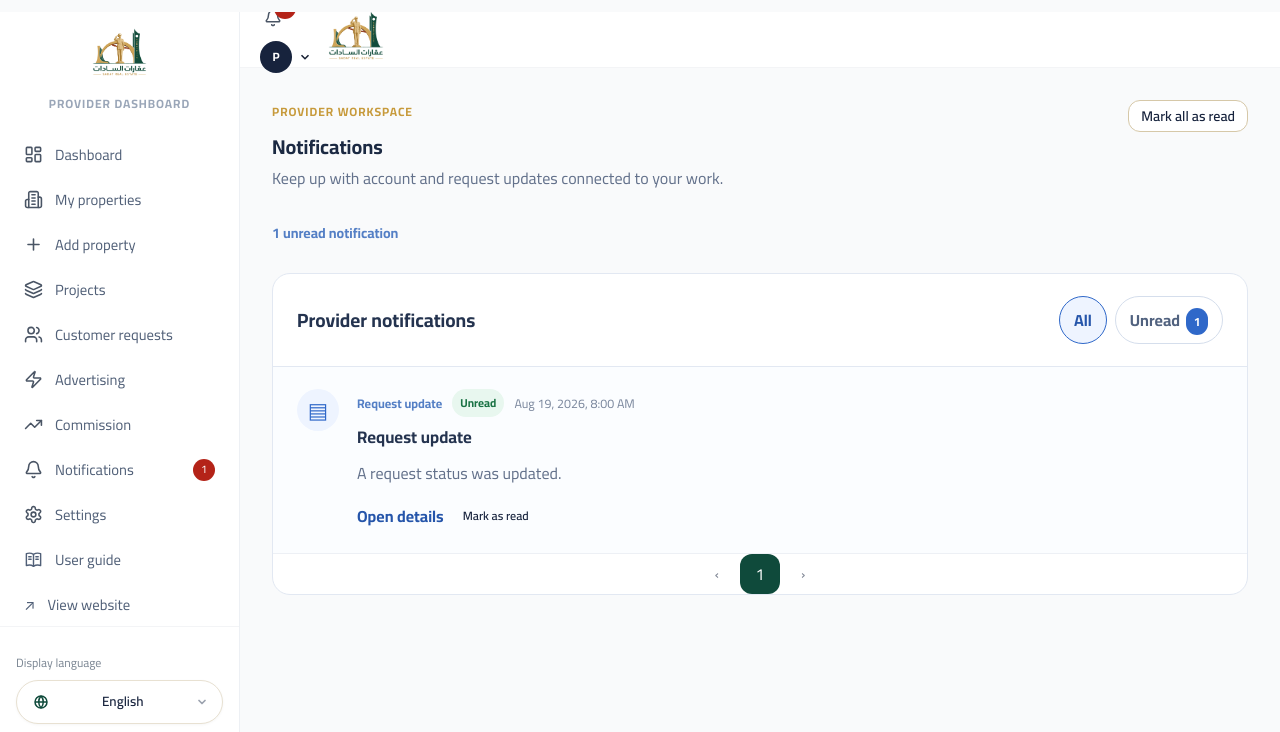
Test case: Provider notifications › fails closed for unsafe notification links and preserves the unread filter empty state
Click the button "Unread 1" at coordinates (1169, 320), box [1115,296,1223,344]
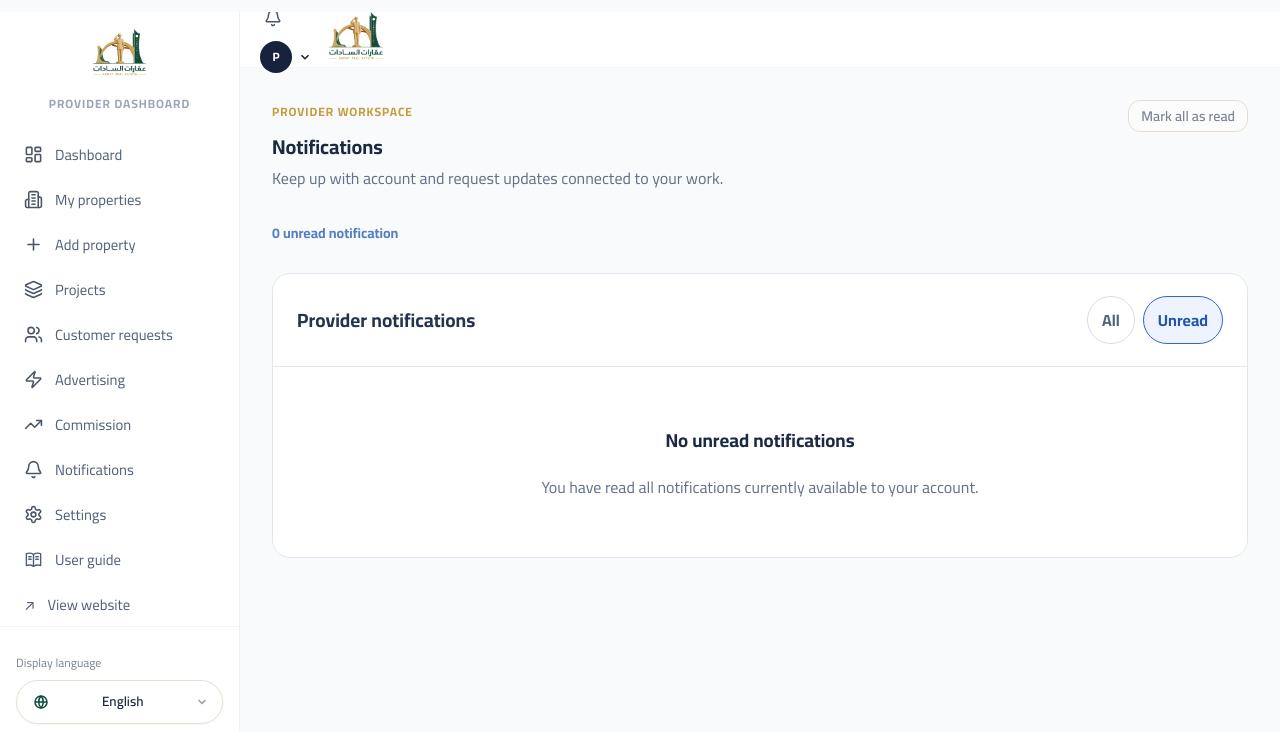
Check: the button "All" is shown, box [1087,296,1135,344]
Check: the heading "No unread notifications" is shown, box [665,423,855,458]
